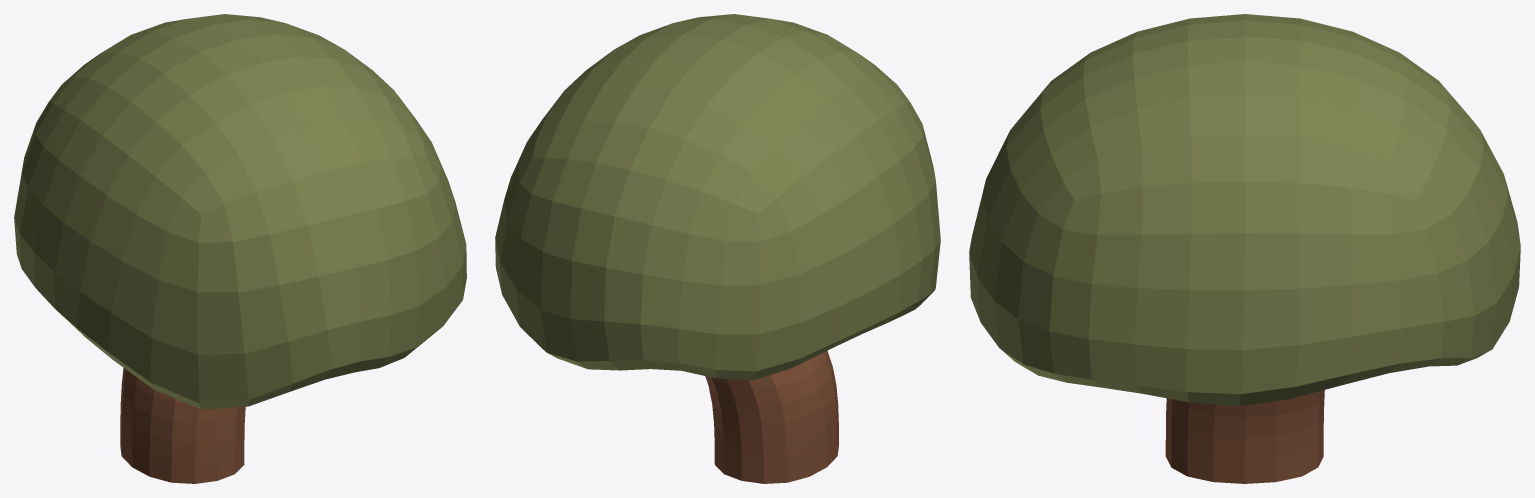
The model's file is Tree 2.fbx.
The picture shows the model from 3 angles, left to right: view 1: azimuth 30°, elevation 25°; view 2: azimuth 150°, elevation 25°; view 3: azimuth 270°, elevation 25°; orthographic projection. The views are drawn at different scales.
Visible parts, largest first — view 1: Cube.001; view 2: Cube.001; view 3: Cube.001.
Boxes of the visible parts, bbox=[...] form: Cube.001: bbox=[14, 14, 466, 483]; Cube.001: bbox=[495, 14, 940, 483]; Cube.001: bbox=[969, 14, 1520, 483].
Bounding box in the file's own units: 9.25 × 10.71 × 9.65.
